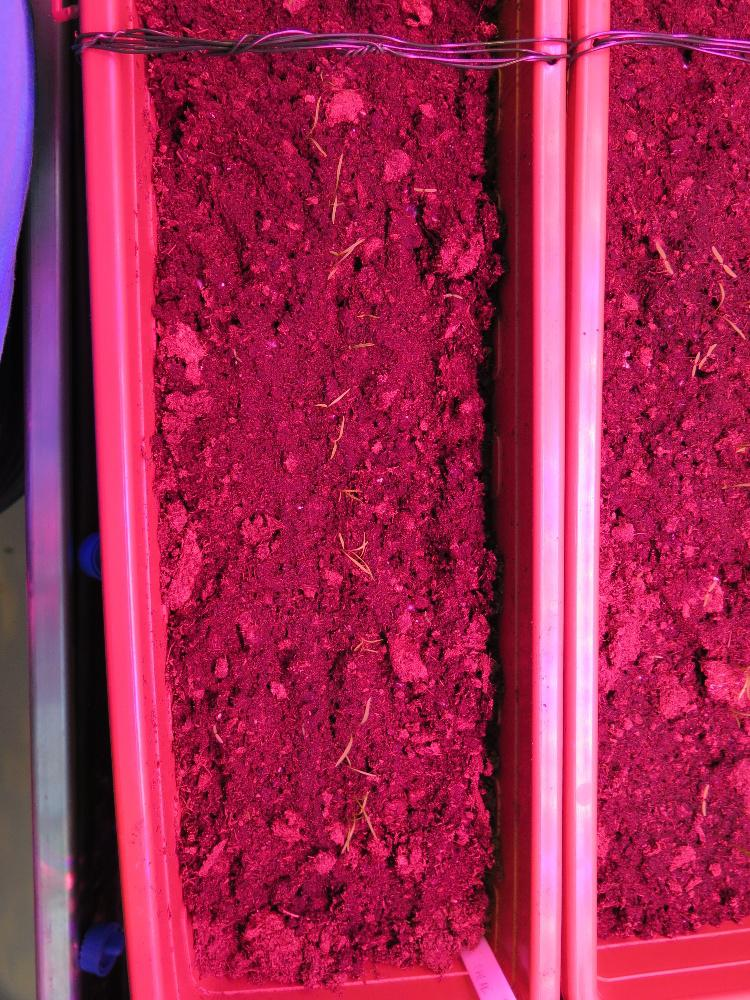weed: (710, 241, 737, 279), (654, 237, 673, 277), (700, 777, 709, 819), (210, 720, 223, 749), (411, 184, 437, 194)
